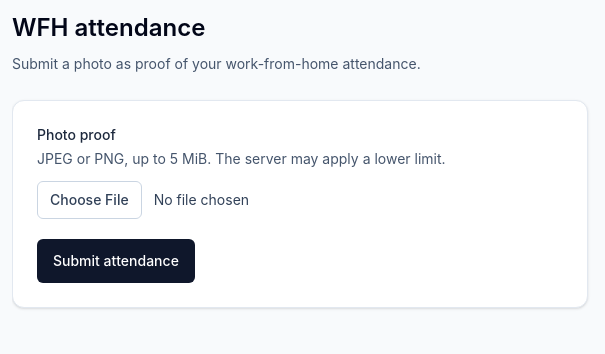
Test: EmployeeAttendancePage › rejects unsupported and oversized photos
Earlier steps of the test are not shown.
Later steps or results of the test are not shown.
Click the button "Submit attendance" at (116, 261), box [37,239,195,283]
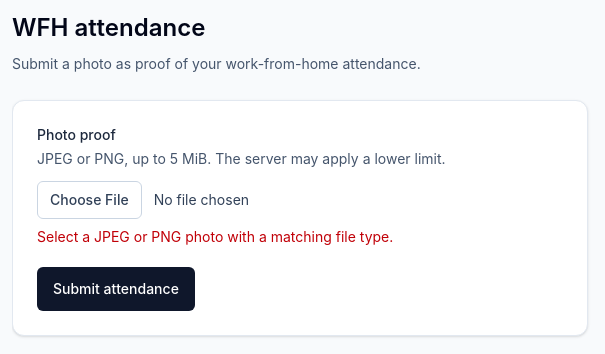
Check: the text "Select a JPEG or PNG photo with a matching file type." is shown, box [37,228,393,245]
